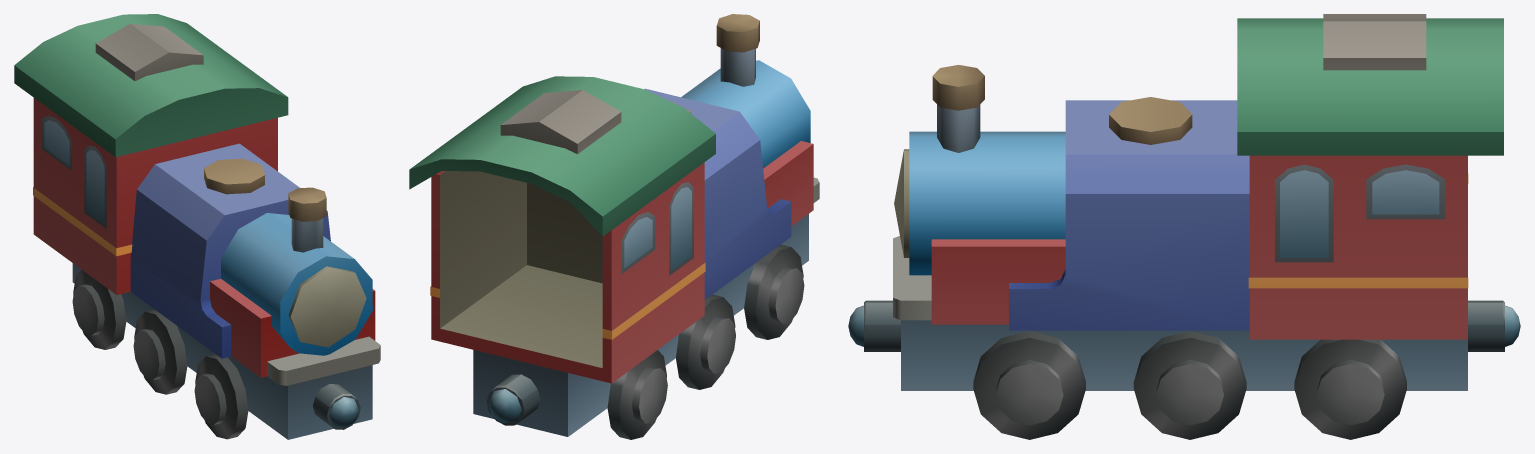
The model's file is Steam_Engine_C.fbx.
3 views of the same model, side by side, from view 1: azimuth 30°, elevation 25°; view 2: azimuth 150°, elevation 25°; view 3: azimuth 270°, elevation 25° (orthographic). The views are drawn at different scales.
Visible parts, largest first — view 1: Steam_Engine_C; view 2: Steam_Engine_C; view 3: Steam_Engine_C.
Part boxes in pixels (<box>): Steam_Engine_C: <box>14,14,380,439</box>; Steam_Engine_C: <box>409,14,819,439</box>; Steam_Engine_C: <box>848,14,1520,439</box>.
Bounding box in the file's own units: 324 × 515 × 831.
